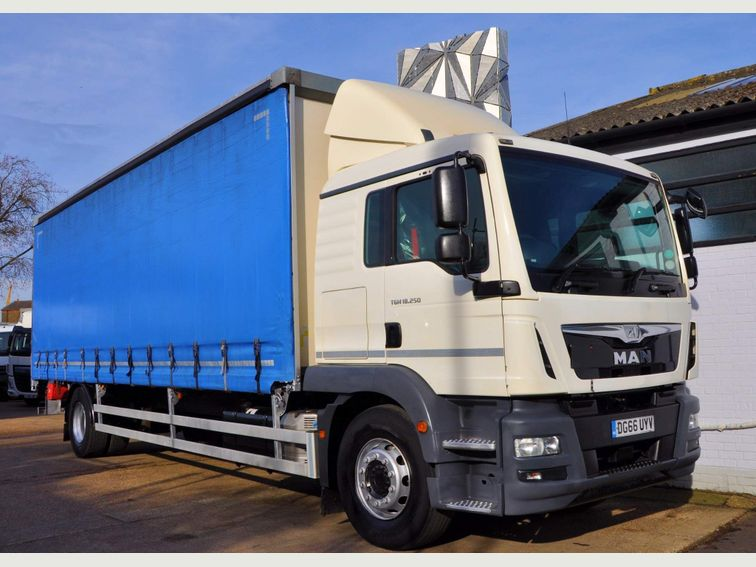Semi: (31, 67, 699, 551)
